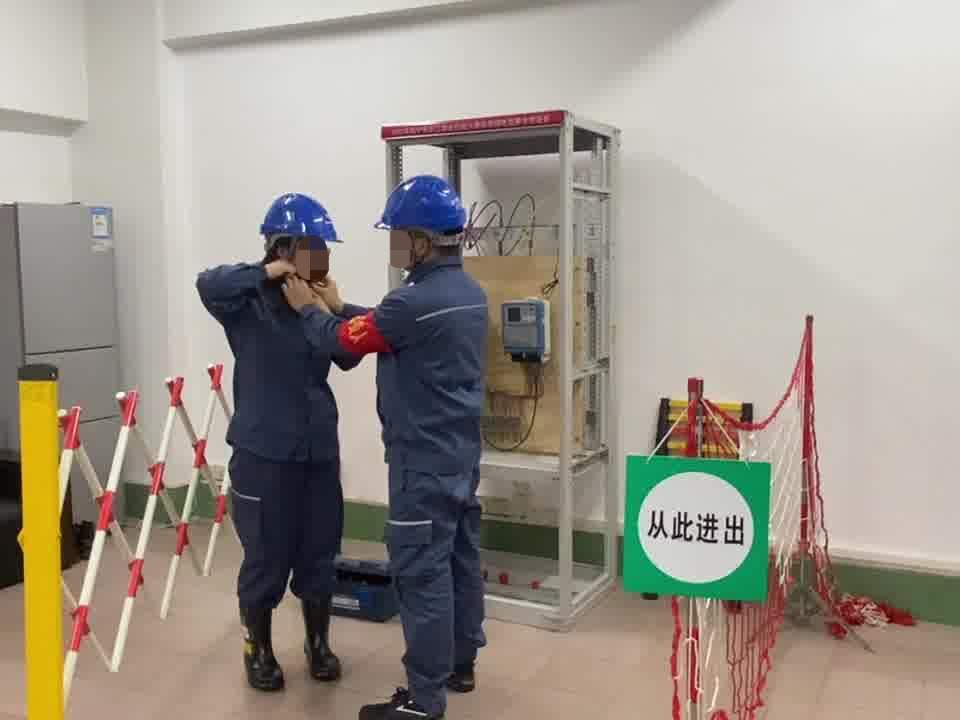halt: (382, 176, 472, 268), (261, 194, 342, 278)
inear: (407, 230, 440, 264)
